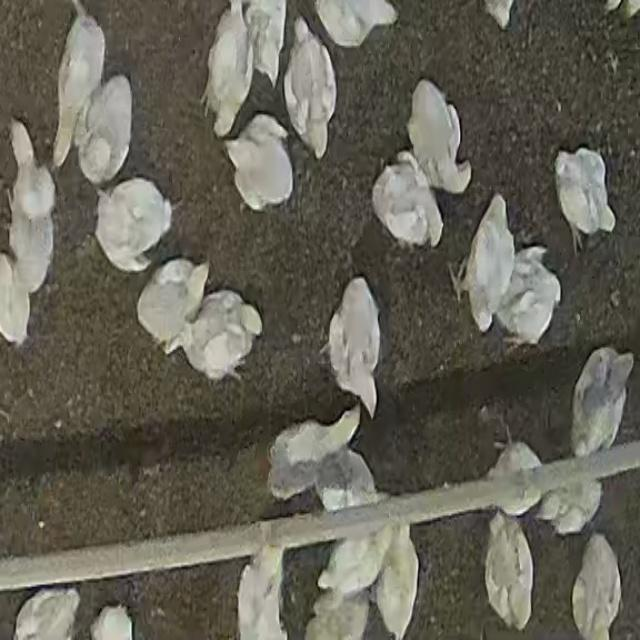chicken: (262, 402, 362, 486), (52, 6, 104, 166), (330, 274, 392, 408), (177, 290, 265, 384), (284, 17, 337, 160), (407, 80, 471, 198), (460, 195, 516, 329), (95, 178, 172, 275), (492, 247, 560, 348), (570, 348, 633, 457), (224, 116, 295, 212), (202, 3, 254, 134), (371, 155, 443, 249), (76, 76, 136, 187), (554, 148, 618, 252), (316, 523, 393, 600), (134, 260, 210, 337), (483, 518, 533, 630), (6, 193, 56, 300), (236, 545, 290, 639), (482, 437, 542, 521), (8, 122, 58, 220), (572, 536, 620, 638), (378, 528, 421, 636), (314, 446, 379, 512), (536, 472, 604, 534), (313, 1, 400, 49), (244, 0, 288, 90), (305, 588, 368, 640), (0, 254, 32, 348)
